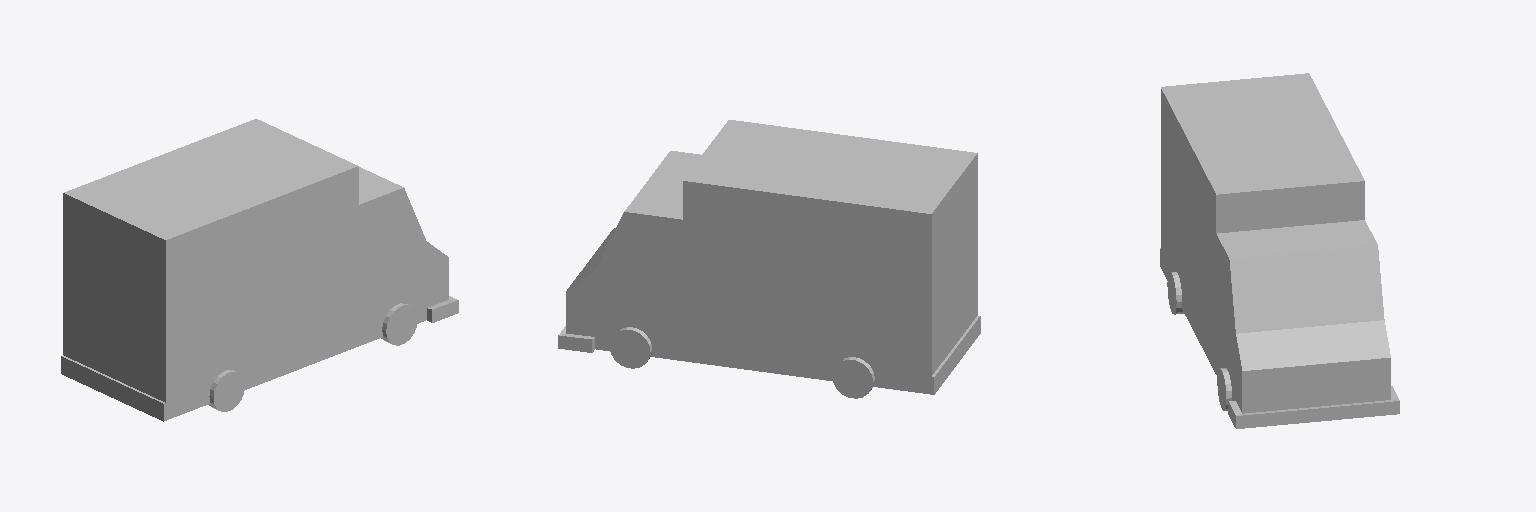
Rendered from car2.obj.
3 renders of one model, left to right at view 1: azimuth 30°, elevation 25°; view 2: azimuth 150°, elevation 25°; view 3: azimuth 270°, elevation 25°, orthographic.
Parts seen in each view (by area): view 1: Car_08_2 Cars City; view 2: Car_08_2 Cars City; view 3: Car_08_2 Cars City.
Boxes of the visible parts, x1,y1,x2,y2 form: Car_08_2 Cars City: [61, 119, 458, 421]; Car_08_2 Cars City: [558, 120, 980, 398]; Car_08_2 Cars City: [1160, 73, 1399, 428].
Bounding box in the file's own units: 197 × 99.95 × 113.